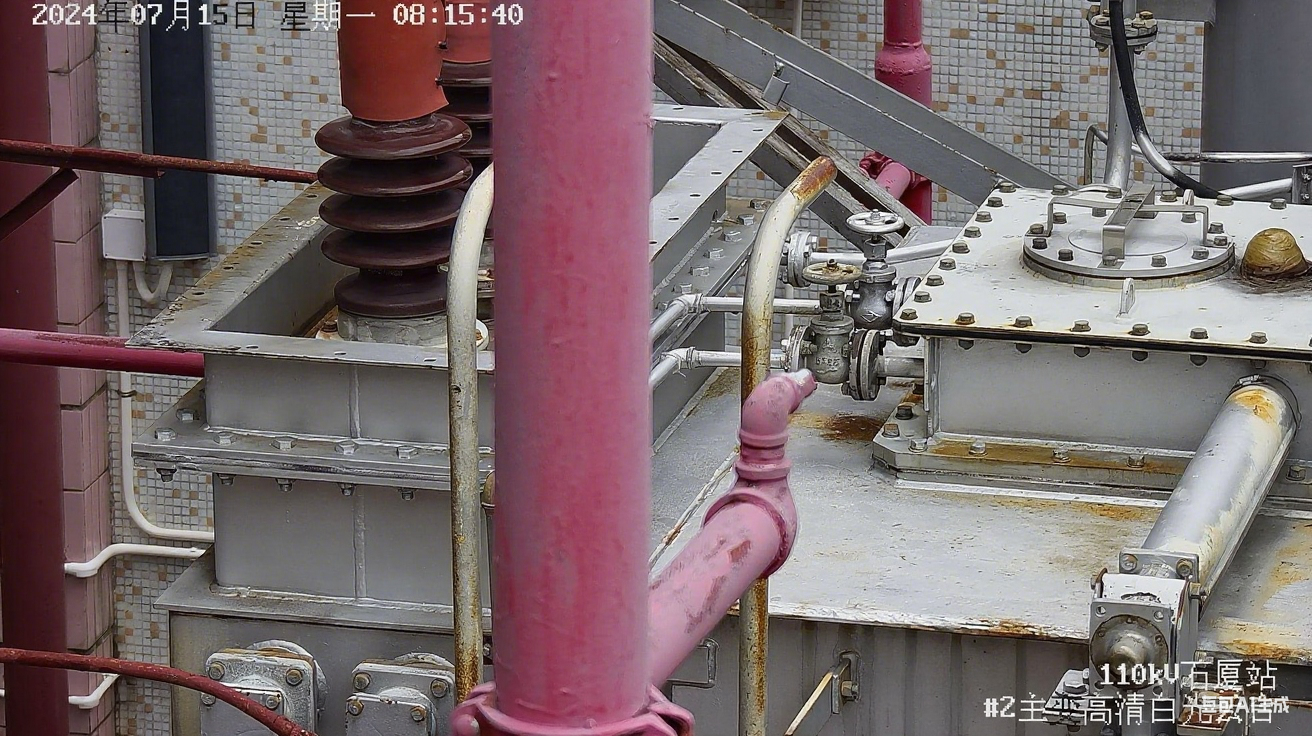MainTR: (122, 0, 1312, 735)
